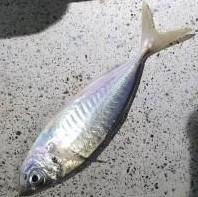fish: (18, 1, 195, 196)
